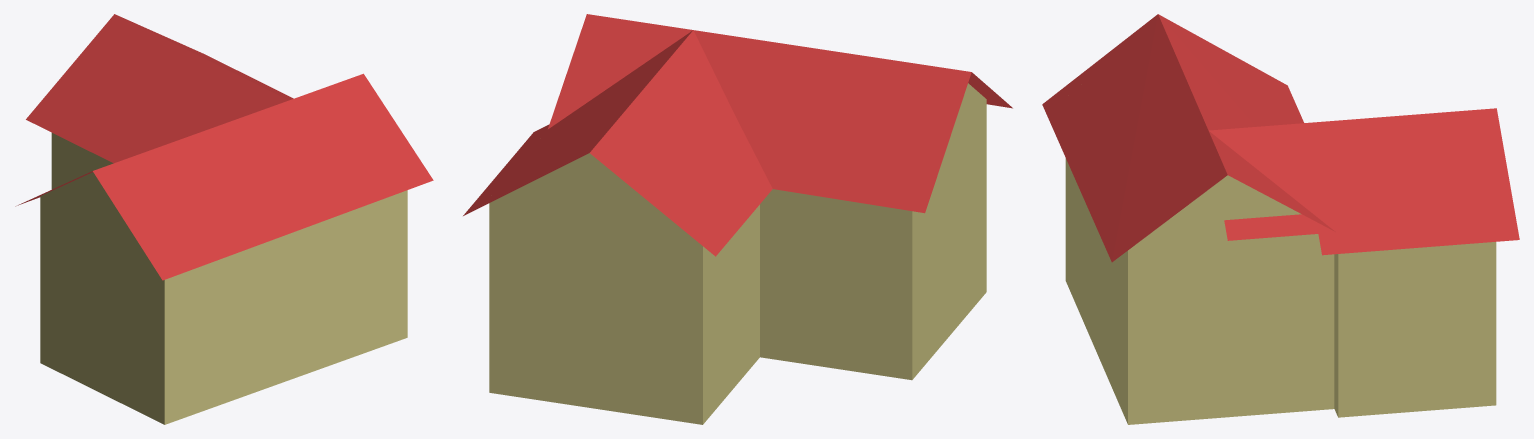
3 views of the same model, side by side, from view 1: azimuth 30°, elevation 25°; view 2: azimuth 150°, elevation 25°; view 3: azimuth 270°, elevation 25° (orthographic). The views are drawn at different scales.
Size of the model in its own units: 21.24 by 23.8 by 13.78.
